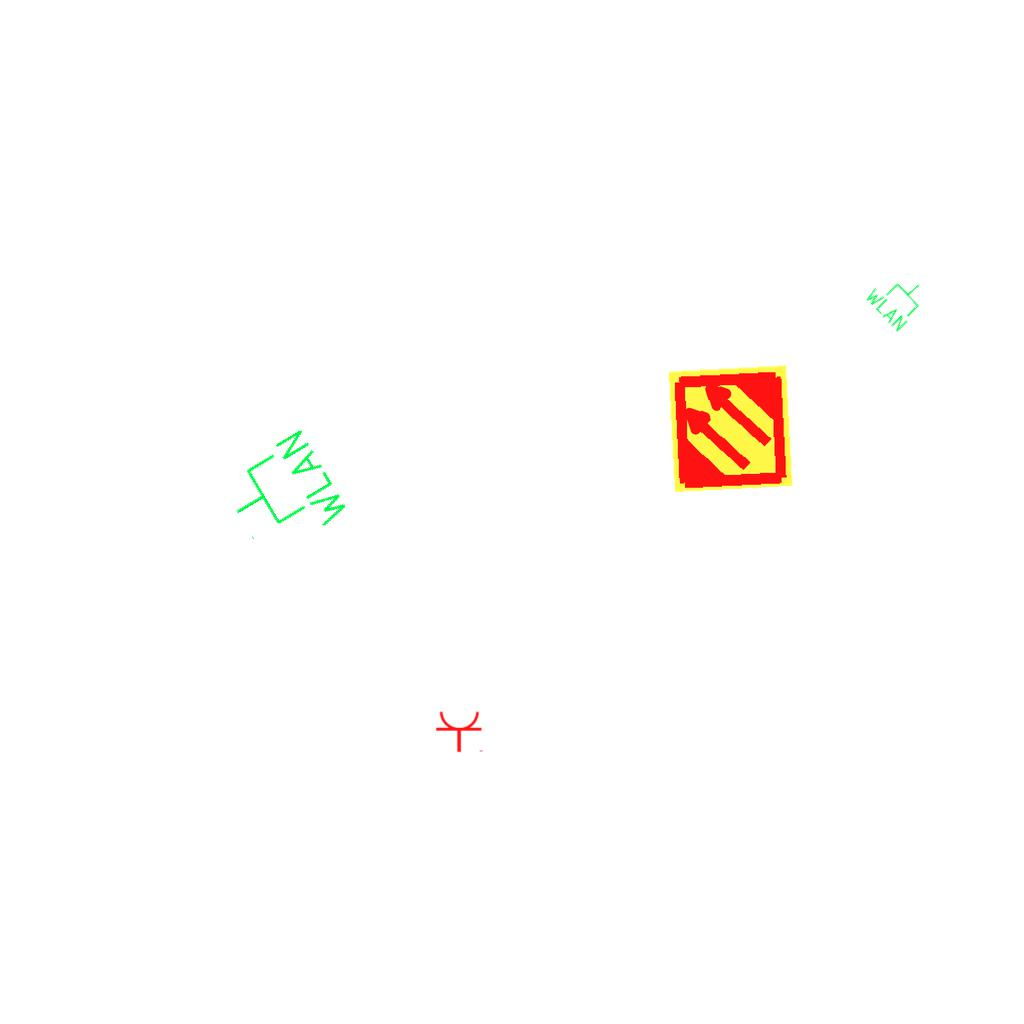ASR_Ansaugrauchmelder: (664, 362, 797, 495)
Schukosteckdose_einfach: (435, 710, 485, 753)
WLAN: (212, 423, 356, 568), (861, 261, 935, 335)
